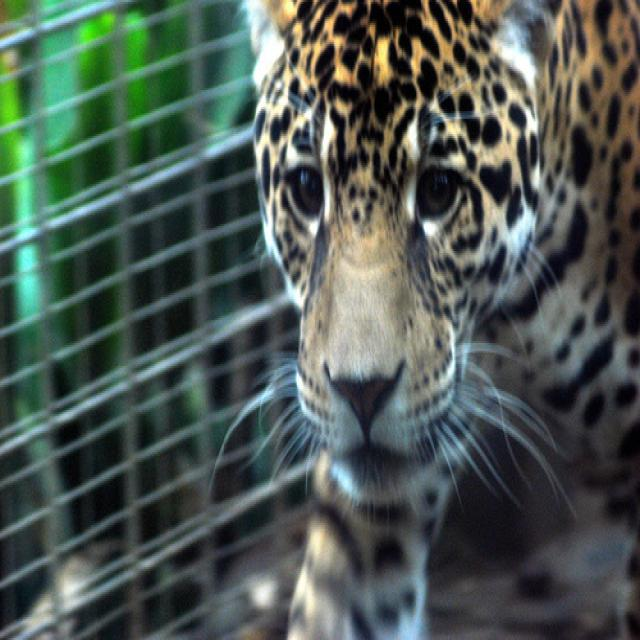Leopard: (202, 0, 638, 636)
